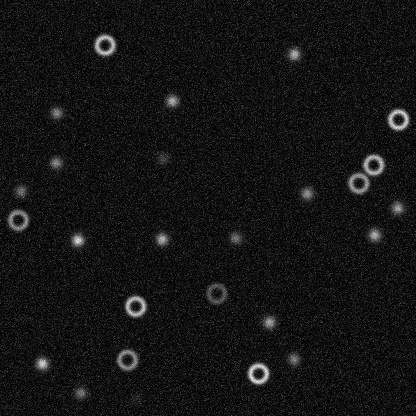Ring: (386, 107, 410, 131), (346, 170, 370, 194), (115, 347, 139, 371), (123, 294, 147, 318), (204, 281, 228, 305), (246, 361, 270, 385), (361, 152, 385, 176), (6, 207, 30, 231), (92, 32, 116, 56)
Spot: (34, 355, 50, 371), (164, 92, 180, 108), (286, 46, 302, 62), (72, 384, 88, 400), (69, 232, 85, 248), (48, 104, 64, 120), (298, 185, 314, 201), (153, 231, 169, 247), (127, 390, 143, 406), (12, 182, 28, 198), (227, 229, 243, 245), (261, 314, 277, 330), (154, 150, 170, 166), (47, 154, 63, 170), (366, 226, 382, 242), (389, 199, 405, 215), (285, 351, 301, 367)
